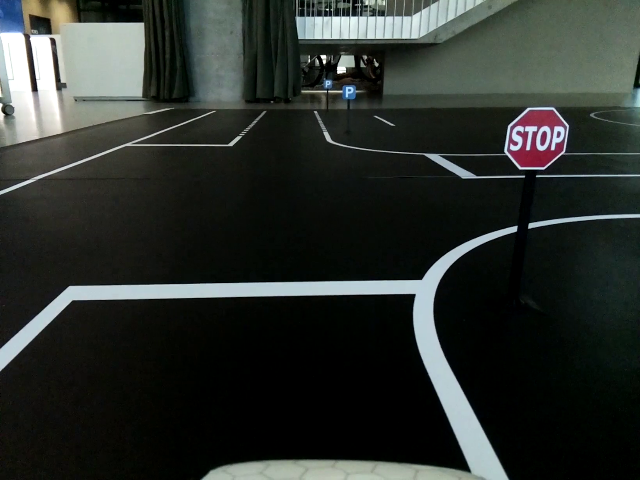stop: (507, 108, 567, 168)
